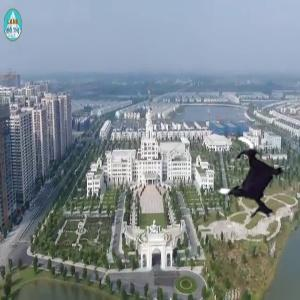drone: (203, 133, 299, 229)
